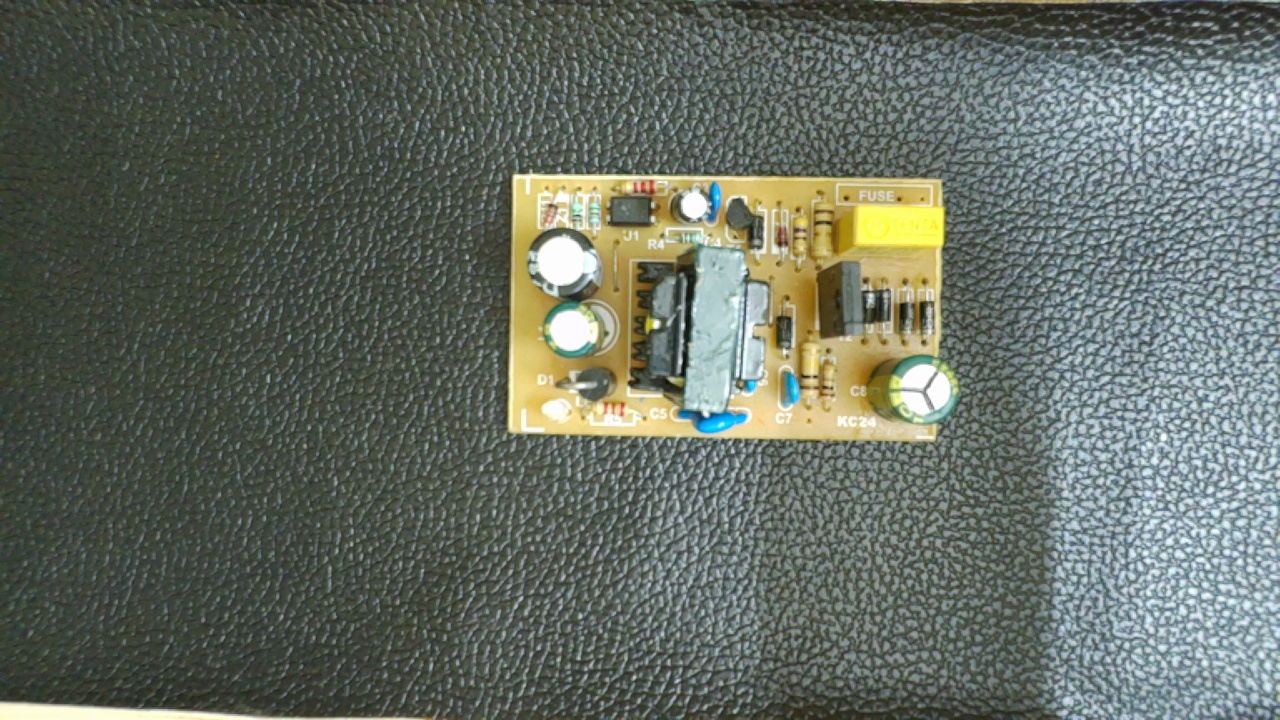hv_capacitor: (864, 351, 963, 429)
mov: (668, 404, 753, 437)
optocoupler: (599, 192, 663, 230)
